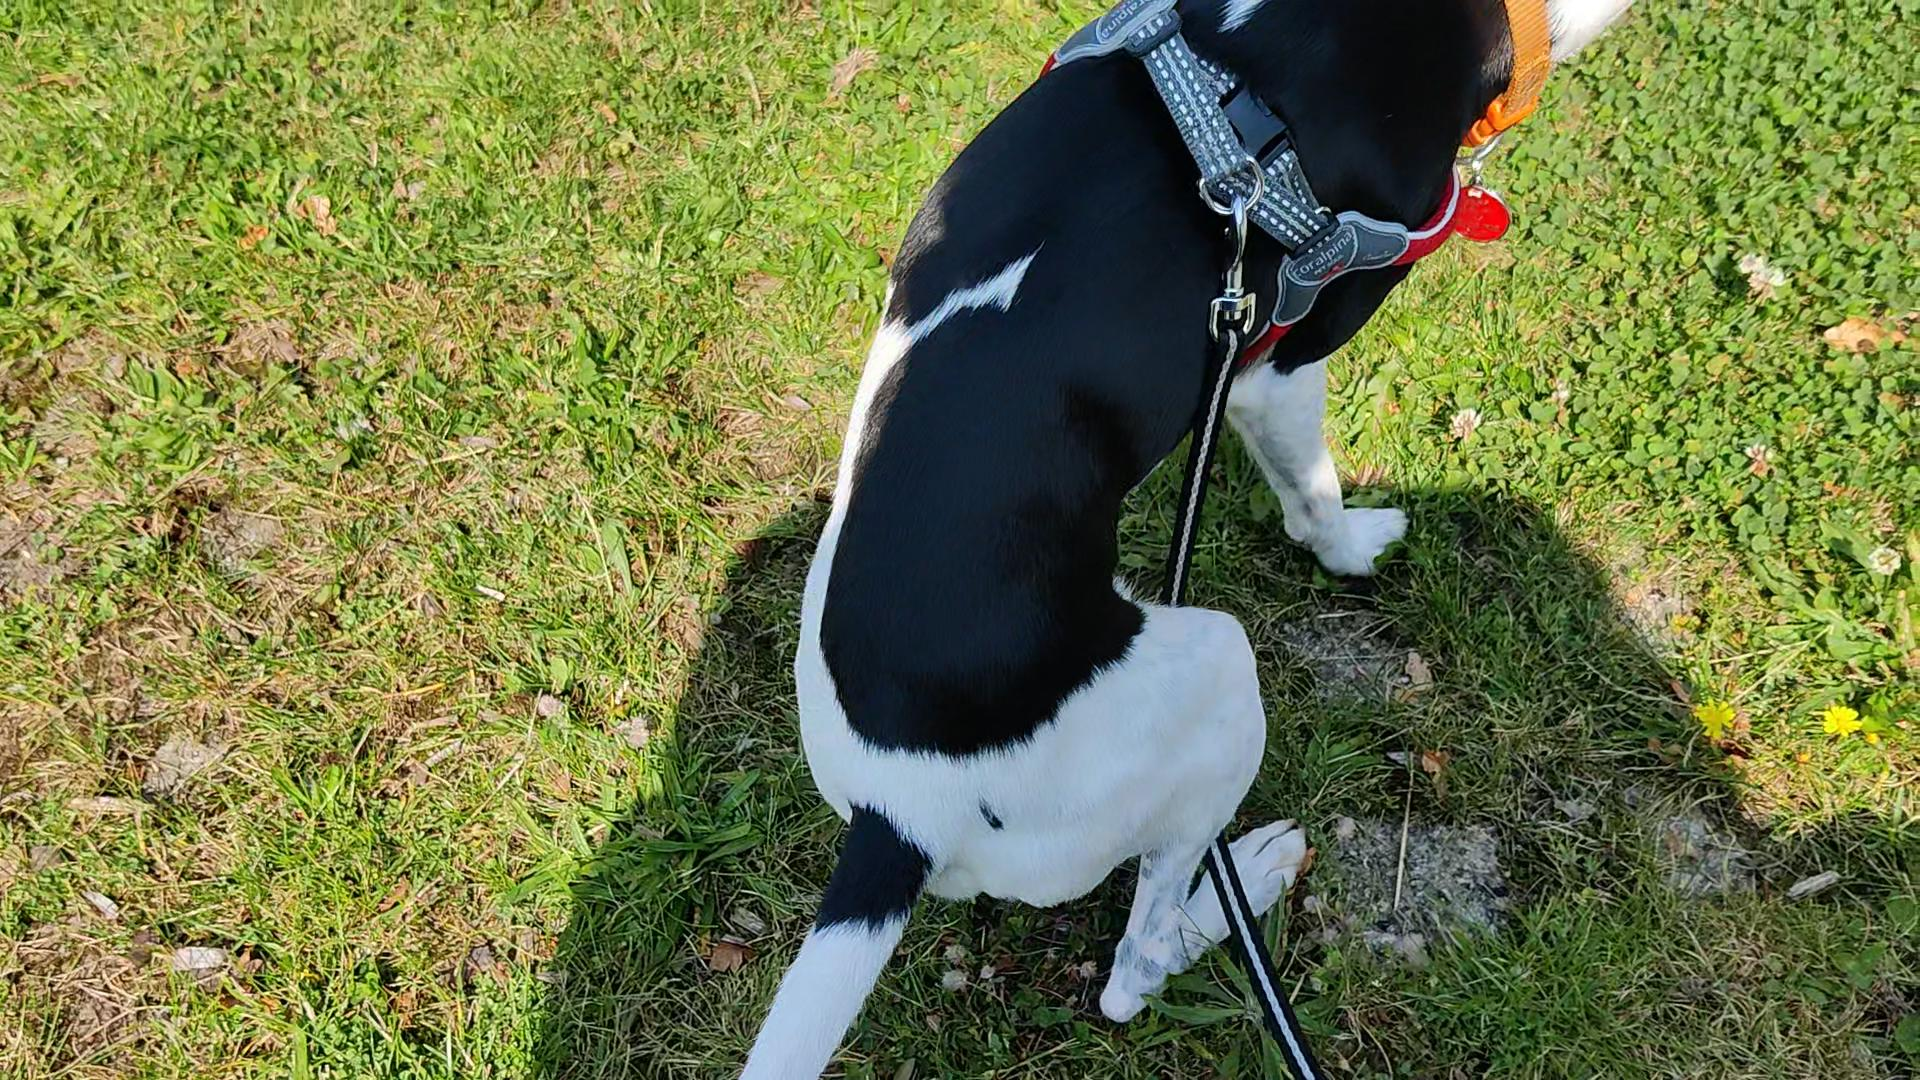Dog: (732, 0, 1647, 1079)
